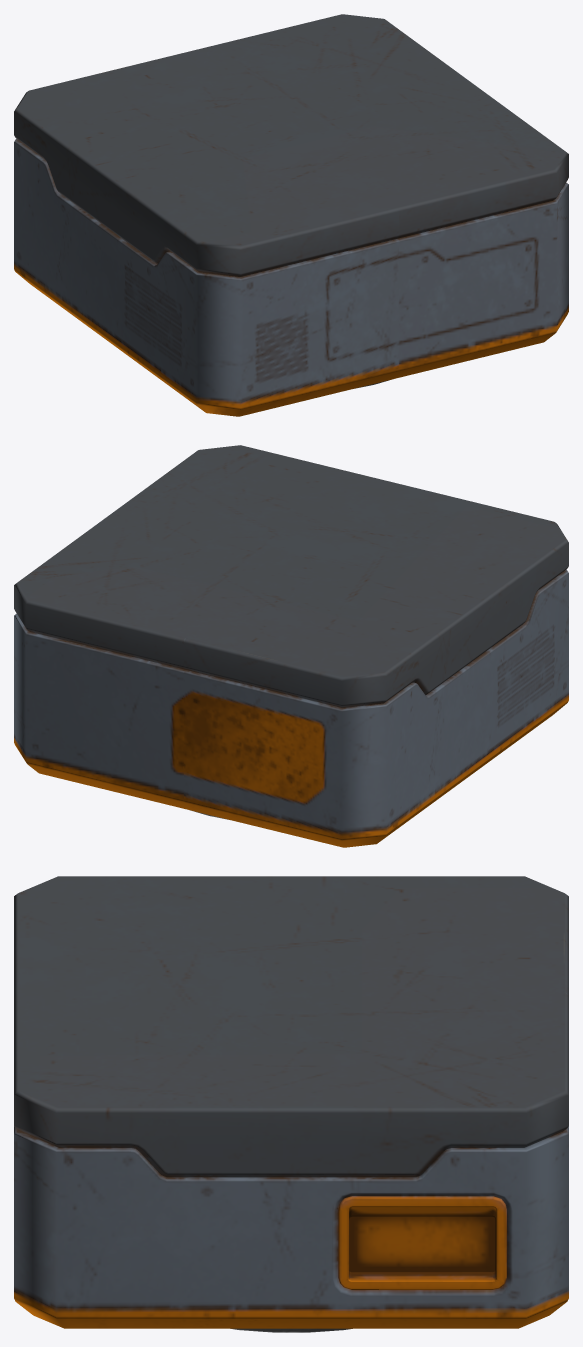
File: SM_Fan01.fbx
3 renders of one model, top to bottom at view 1: azimuth 30°, elevation 25°; view 2: azimuth 150°, elevation 25°; view 3: azimuth 270°, elevation 25°, orthographic. The views are drawn at different scales.
Parts seen in each view (by area): view 1: SM_Fan01_LOD0; view 2: SM_Fan01_LOD0; view 3: SM_Fan01_LOD0.
Part boxes in pixels (<box>): SM_Fan01_LOD0: <box>14,14,568,416</box>; SM_Fan01_LOD0: <box>14,445,568,847</box>; SM_Fan01_LOD0: <box>14,876,568,1332</box>.
Bounding box in the file's own units: 124 × 124 × 62.18.
1 material, 1 textured.
